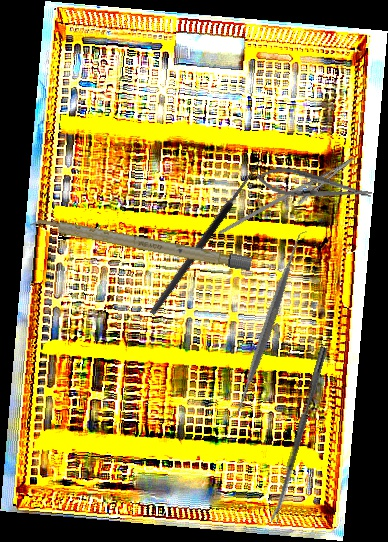Hook Surgical: (141, 149, 267, 317)
Needle Holder: (217, 142, 362, 259), (254, 163, 374, 209)
Scalpel Handle: (29, 214, 253, 272)
Spatula Surgical: (176, 230, 360, 420)
Surgical Spoon: (269, 345, 328, 525)
